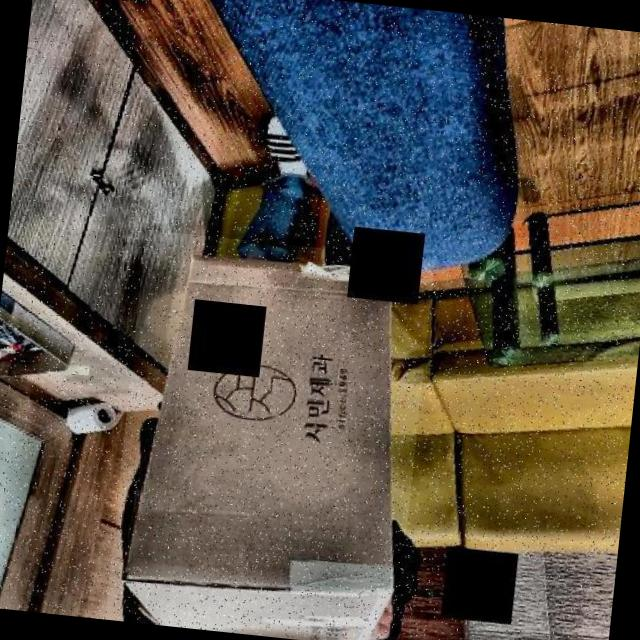box: (104, 229, 433, 640)
